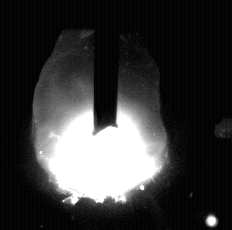arame: (94, 0, 119, 135)
poca: (34, 0, 168, 230)
